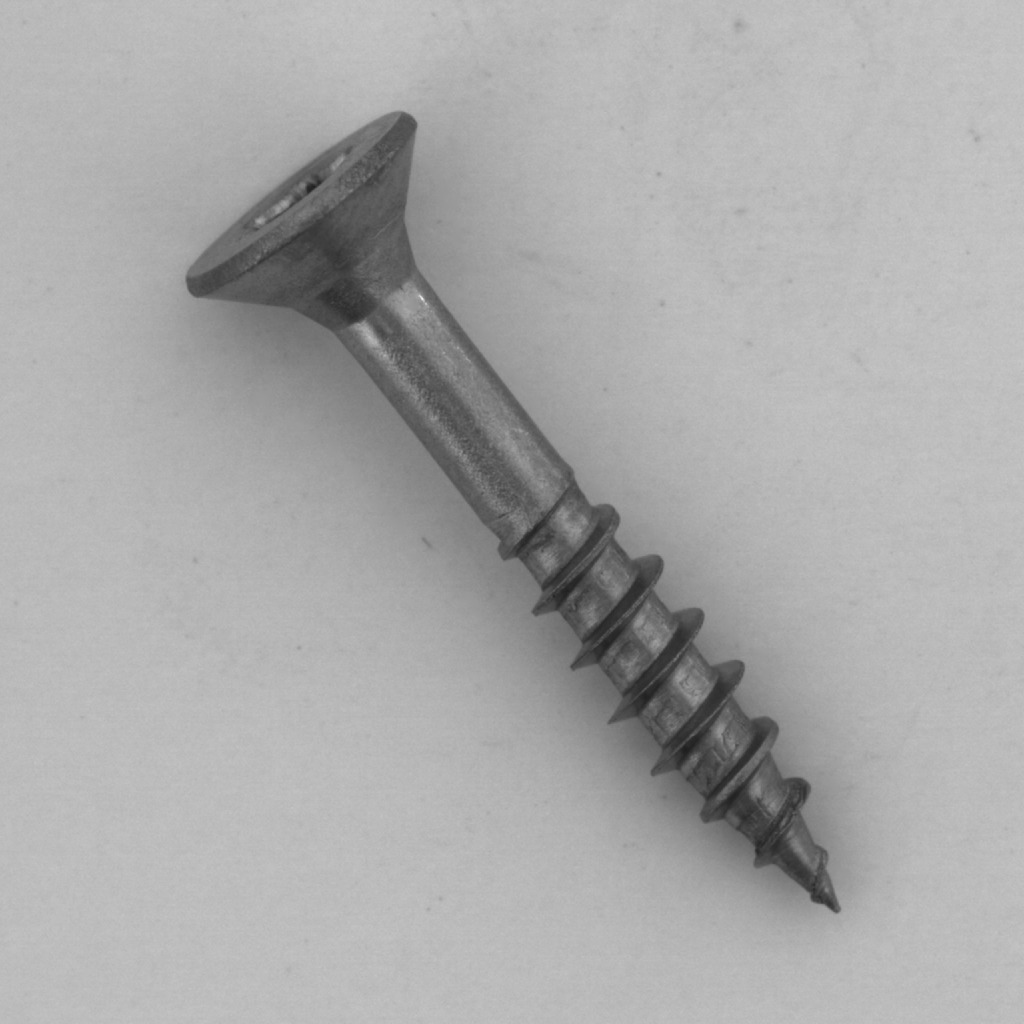good: (160, 98, 860, 924)
